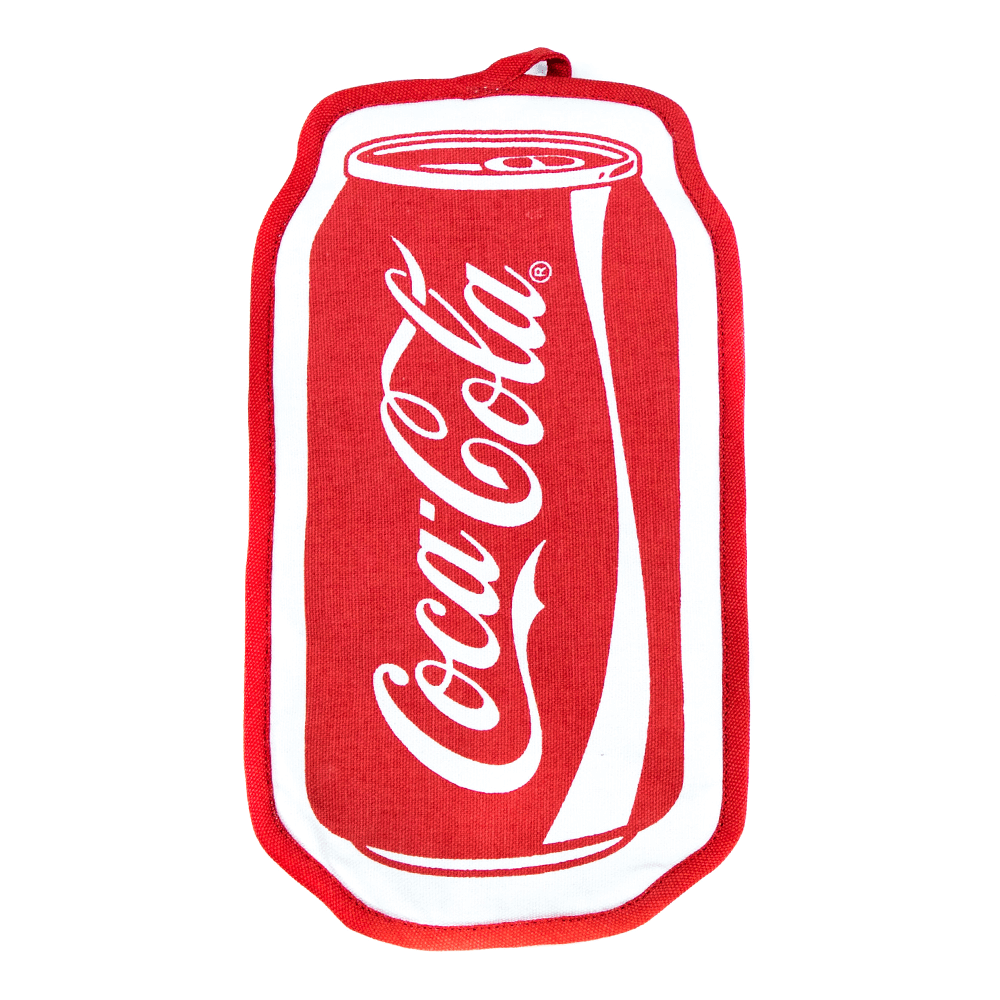coke: (370, 232, 577, 802)
